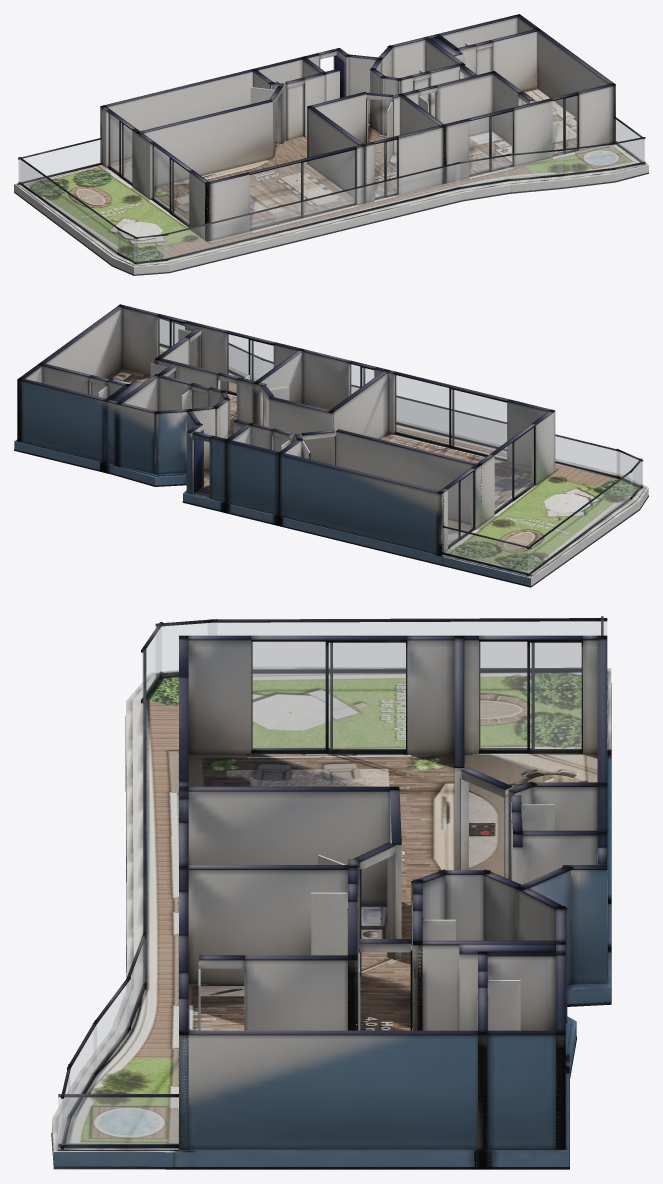
The picture shows the model from 3 angles, top to bottom: view 1: azimuth 30°, elevation 25°; view 2: azimuth 150°, elevation 25°; view 3: azimuth 270°, elevation 25°; orthographic projection. The views are drawn at different scales.
Parts seen in each view (by area): view 1: plan, railg1_m, glass2_m, railg9_m, glass4_m, glass1_m, railg0_m, railg5_m, railg4_m, railg6_m, glass5_m, glass0_m (+5 smaller); view 2: plan, glass2_m, railg1_m, railg9_m, railg0_m, glass1_m, glass4_m, glass0_m, railg5_m, glass5_m, railg7_m, glass3_m; view 3: plan, glass1_m, railg9_m, glass0_m, railg2_m, railg5_m, railg8_m, railg4_m, railg6_m, railg7_m.
Boxes of the visible parts, x1,y1,x2,y2 form: plan: (14,14,648,275); railg1_m: (163,164,459,258); glass2_m: (250,150,354,228); railg9_m: (19,160,120,253); glass4_m: (469,111,512,174); glass1_m: (152,145,188,224); railg0_m: (18,140,101,182); railg5_m: (505,151,562,178); railg4_m: (558,145,614,174); railg6_m: (456,156,509,187); glass5_m: (553,96,577,154); glass0_m: (108,113,131,182); plan: (14,304,648,587); glass2_m: (395,375,506,458); railg1_m: (352,387,619,476); railg9_m: (528,472,632,573); railg0_m: (443,528,531,573); glass1_m: (495,428,533,511); glass4_m: (227,334,273,392); glass0_m: (448,472,472,545); railg5_m: (229,345,260,380); glass5_m: (158,317,184,355); railg7_m: (617,451,642,486); glass3_m: (350,364,373,394); plan: (51,616,611,1169); glass1_m: (251,642,405,749); railg9_m: (208,621,606,668); glass0_m: (479,642,581,749); railg2_m: (58,1097,178,1144); railg5_m: (94,981,129,1072); railg8_m: (156,623,216,673); railg4_m: (68,1025,96,1112); railg6_m: (127,939,145,1028); railg7_m: (142,627,161,699).
Bounding box in the file's own units: 20.57 × 2.62 × 10.01.
Materials: 2 (1 with a texture image).
